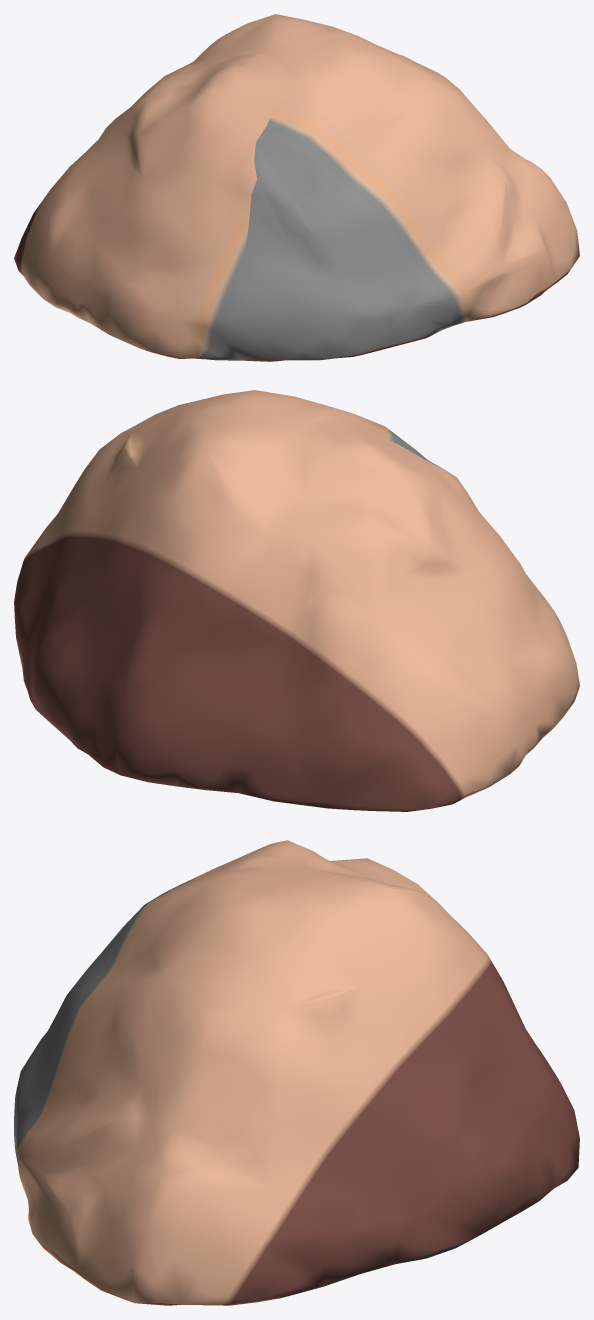
Rendered from SM_BoulderHigh1_LOD0.fbx.
3 views of the same model, one above another, from view 1: azimuth 30°, elevation 25°; view 2: azimuth 150°, elevation 25°; view 3: azimuth 270°, elevation 25° (orthographic). The views are drawn at different scales.
Parts seen in each view (by area): view 1: SM_Boulder1_LOD0; view 2: SM_Boulder1_LOD0; view 3: SM_Boulder1_LOD0.
Boxes of the visible parts, bbox=[...] form: SM_Boulder1_LOD0: bbox=[14, 14, 579, 361]; SM_Boulder1_LOD0: bbox=[14, 390, 579, 811]; SM_Boulder1_LOD0: bbox=[14, 840, 579, 1305].
Bounding box in the file's own units: 14.23 × 6.75 × 11.9.
